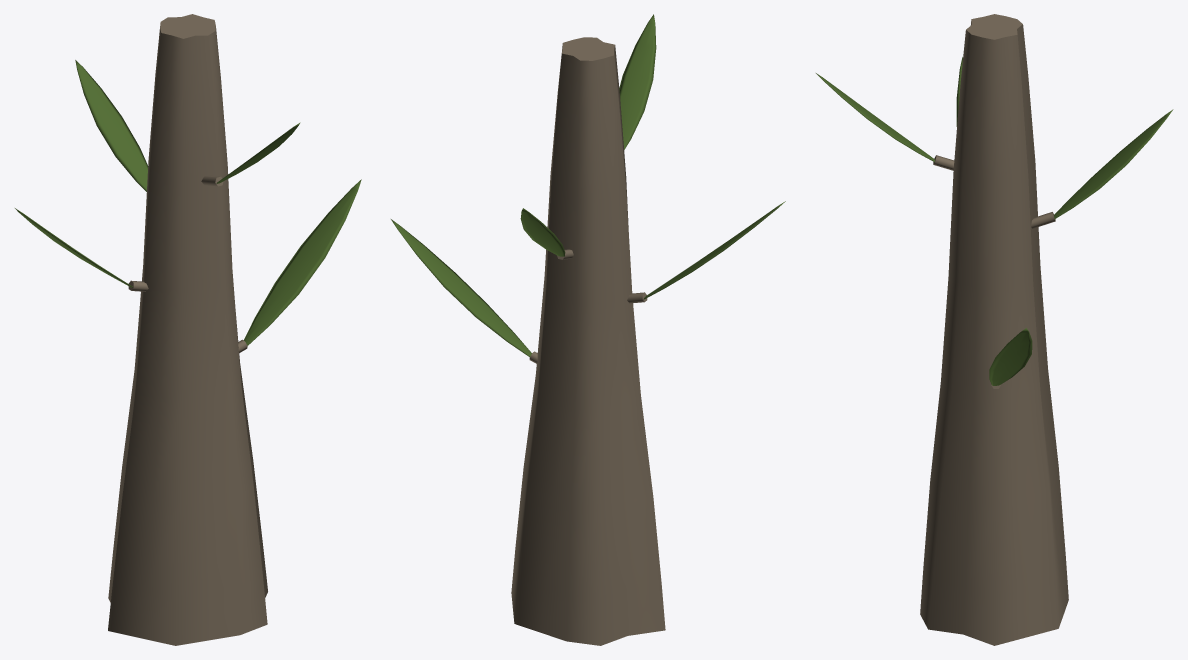
Rendered from forest-branch-leafed.fbx.
3 renders of one model, left to right at view 1: azimuth 30°, elevation 25°; view 2: azimuth 150°, elevation 25°; view 3: azimuth 270°, elevation 25°, orthographic. The views are drawn at different scales.
Visible parts, largest first — view 1: SM_DY_ForestBranch_Canopy; view 2: SM_DY_ForestBranch_Canopy; view 3: SM_DY_ForestBranch_Canopy.
Boxes of the visible parts, bbox=[...] form: SM_DY_ForestBranch_Canopy: bbox=[15, 14, 361, 645]; SM_DY_ForestBranch_Canopy: bbox=[391, 14, 785, 645]; SM_DY_ForestBranch_Canopy: bbox=[816, 14, 1173, 645].
Size of the model in its own units: 68 by 56 by 100.
